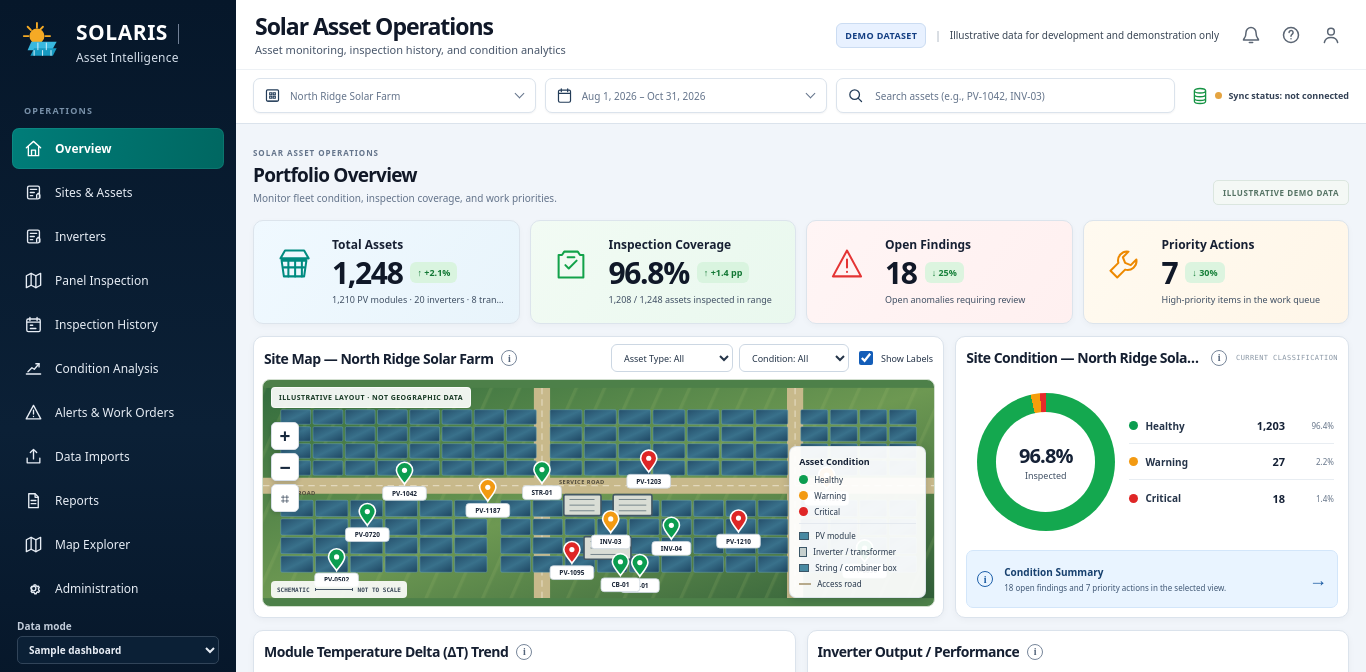
Test case: Sites & Assets page › navigates to the page and selects a demonstration site
The image size is (1366, 672).
Later steps or results of the test are not shown.
Click the link "Sites & Assets": (78, 192) [24,183,133,202]
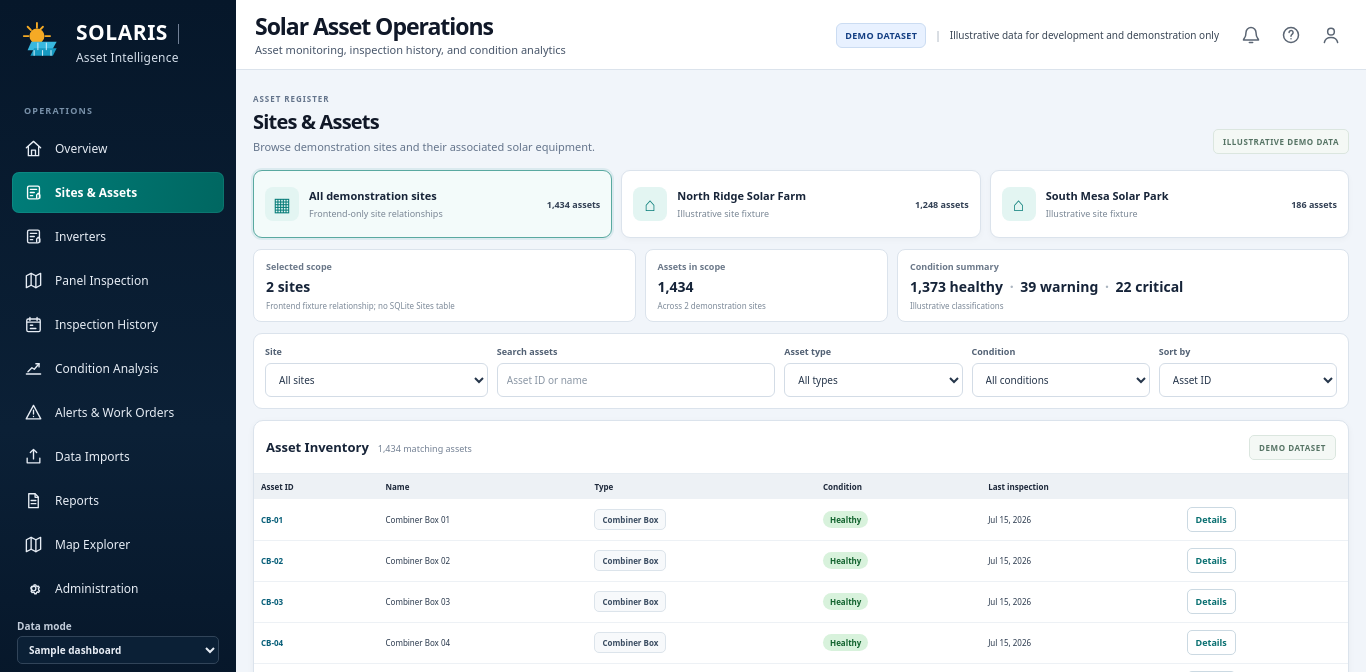
Now the heading "Sites & Assets" is shown, box [253,108,379,135]
